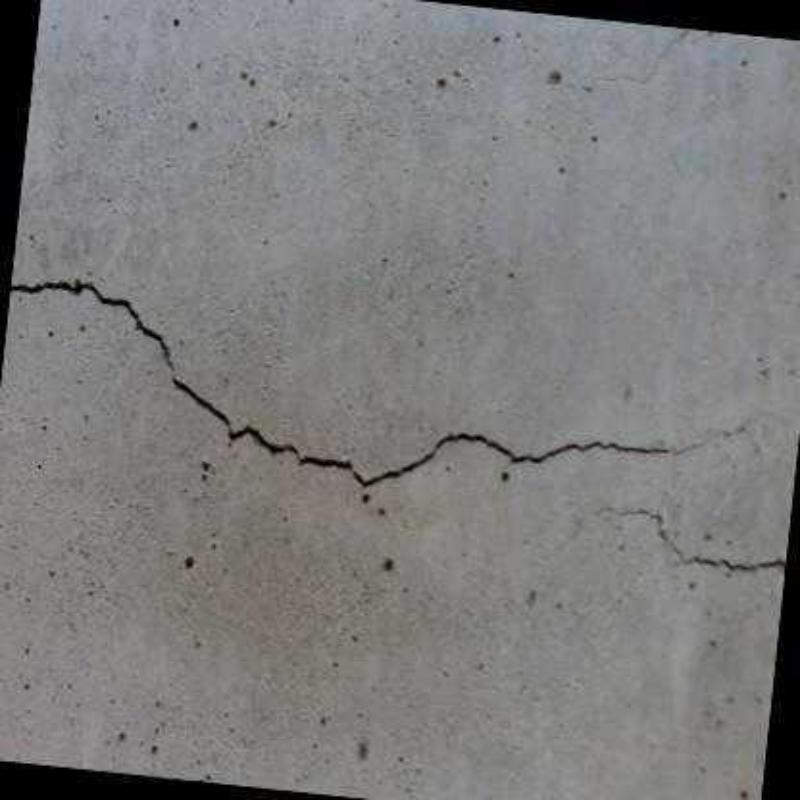pothole: (10, 282, 668, 486), (600, 508, 786, 572), (600, 29, 690, 85), (665, 421, 754, 456)
